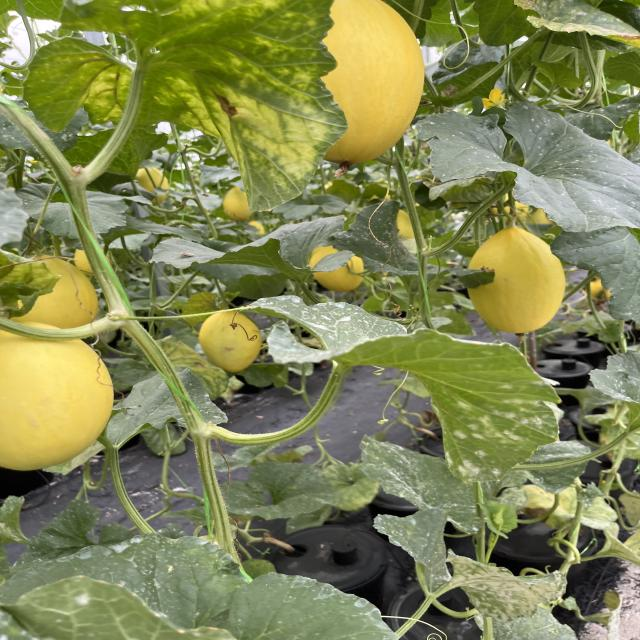alternaria leaf blight: (21, 0, 347, 206), (449, 553, 566, 627), (515, 0, 636, 40)
powdery mildew: (264, 284, 568, 476), (0, 533, 384, 640), (415, 103, 640, 234), (360, 436, 484, 577)
